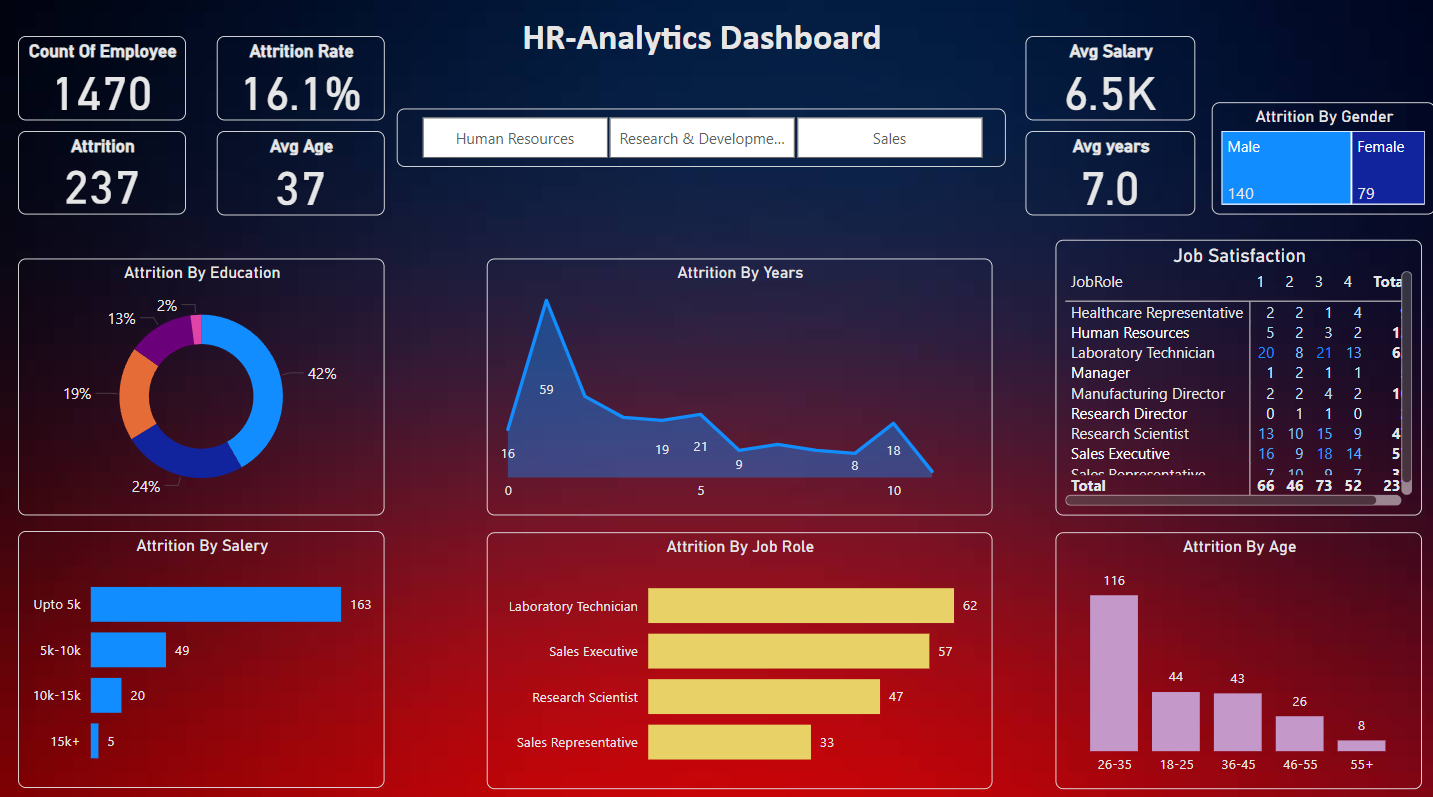

What the dashboard file says about the page in this screenshot:
{"tool":"powerbi","page":{"name":"Page 1","canvas":[1280,720],"ordinal":0},"visuals":[{"type":"card","title":"Count Of Employee","fields":{"Values":["CountNonNull(HR_Analytics (1).EmpID)"]},"box":[17.8,35.7,149.6,75.5],"z":0},{"type":"card","title":"Attrition","fields":{"Values":["Sum(HR_Analytics (1).AttritionCount)"]},"box":[17.8,120.8,149.6,74.1],"z":2},{"type":"card","title":"Attrition Rate","fields":{"Values":["HR_Analytics (1).AttritionRate"]},"box":[194.9,35.7,149.6,75.5],"z":3},{"type":"card","title":"Avg Age","fields":{"Values":["Avg(HR_Analytics (1).Age)"]},"box":[194.9,120.8,149.6,75.5],"z":4},{"type":"card","title":"Avg Salary","fields":{"Values":["Avg(HR_Analytics (1).MonthlyIncome)"]},"box":[915.3,35.7,150.9,75.5],"z":5},{"type":"card","title":"Avg years","fields":{"Values":["Avg(HR_Analytics (1).YearsAtCompany)"]},"box":[915.3,120.8,150.9,75.5],"z":6},{"type":"donutChart","title":"Attrition By Education","fields":{"Category":["HR_Analytics (1).Education"],"Y":["Sum(HR_Analytics (1).AttritionCount)"]},"box":[17.8,233.3,326.6,229.2],"z":7},{"type":"columnChart","title":"Attrition By Age","fields":{"Category":["HR_Analytics (1).AgeGroup"],"Y":["Sum(HR_Analytics (1).AttritionCount)"]},"box":[941.3,477.5,326.6,229.2],"z":8},{"type":"pivotTable","title":"Job Satisfaction","fields":{"Rows":["HR_Analytics (1).JobRole"],"Columns":["HR_Analytics (1).JobSatisfaction"],"Values":["Sum(HR_Analytics (1).AttritionCount)"]},"box":[941.3,216.8,326.6,245.6],"z":9},{"type":"barChart","title":"Attrition By Salery","fields":{"Category":["HR_Analytics (1).SalarySlab"],"Y":["Sum(HR_Analytics (1).AttritionCount)"]},"box":[17.8,476.2,326.6,229.2],"z":10},{"type":"barChart","title":"Attrition By Job Role","fields":{"Category":["HR_Analytics (1).JobRole"],"Y":["Sum(HR_Analytics (1).AttritionCount)"]},"box":[435,477.5,450.1,229.2],"z":11},{"type":"stackedAreaChart","title":"Attrition By Years","fields":{"Category":["HR_Analytics (1).YearsAtCompany"],"Y":["Sum(HR_Analytics (1).AttritionCount)"]},"box":[435,233.3,450.1,229.2],"z":12},{"type":"treemap","title":"Attrition By Gender","fields":{"Group":["HR_Analytics (1).Gender"],"Values":["Sum(HR_Analytics (1).AttritionCount)"]},"box":[1081.3,94.7,199,100.2],"z":14},{"type":"slicer","fields":{"Values":["HR_Analytics (1).Department"]},"box":[355.4,100.2,542,52.1],"z":15},{"type":"textbox","box":[462.4,12.3,354,61.7],"z":16}]}

Visuals, with their boxes in screenshot pixels (x1, y1, x2, y2), scaled from the page's 1280x720 canvas onto the 1433x797 screenshot:
"Count Of Employee" card: Rect(20, 40, 187, 123)
"Attrition" card: Rect(20, 134, 187, 216)
"Attrition Rate" card: Rect(218, 40, 386, 123)
"Avg Age" card: Rect(218, 134, 386, 217)
"Avg Salary" card: Rect(1025, 40, 1194, 123)
"Avg years" card: Rect(1025, 134, 1194, 217)
"Attrition By Education" donutChart: Rect(20, 258, 386, 512)
"Attrition By Age" columnChart: Rect(1054, 529, 1419, 782)
"Job Satisfaction" pivotTable: Rect(1054, 240, 1419, 512)
"Attrition By Salery" barChart: Rect(20, 527, 386, 781)
"Attrition By Job Role" barChart: Rect(487, 529, 991, 782)
"Attrition By Years" stackedAreaChart: Rect(487, 258, 991, 512)
"Attrition By Gender" treemap: Rect(1211, 105, 1432, 216)
slicer - HR_Analytics (1).Department: Rect(398, 111, 1005, 169)
textbox: Rect(518, 14, 914, 82)
